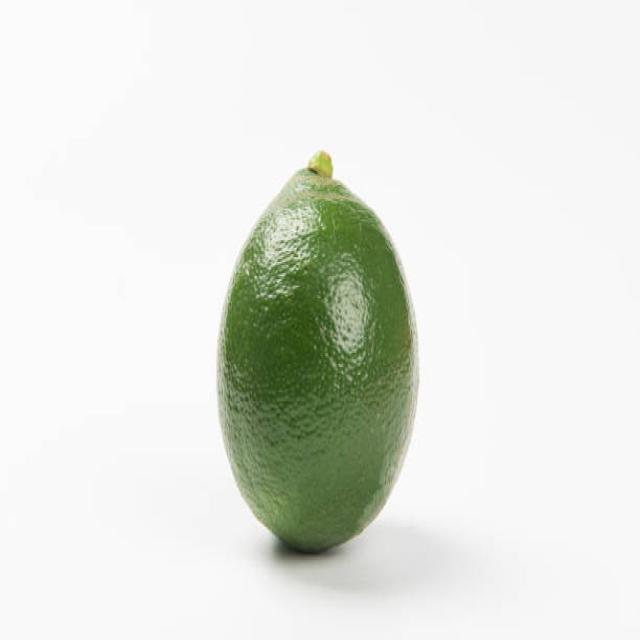Lemon: (216, 145, 422, 552)
